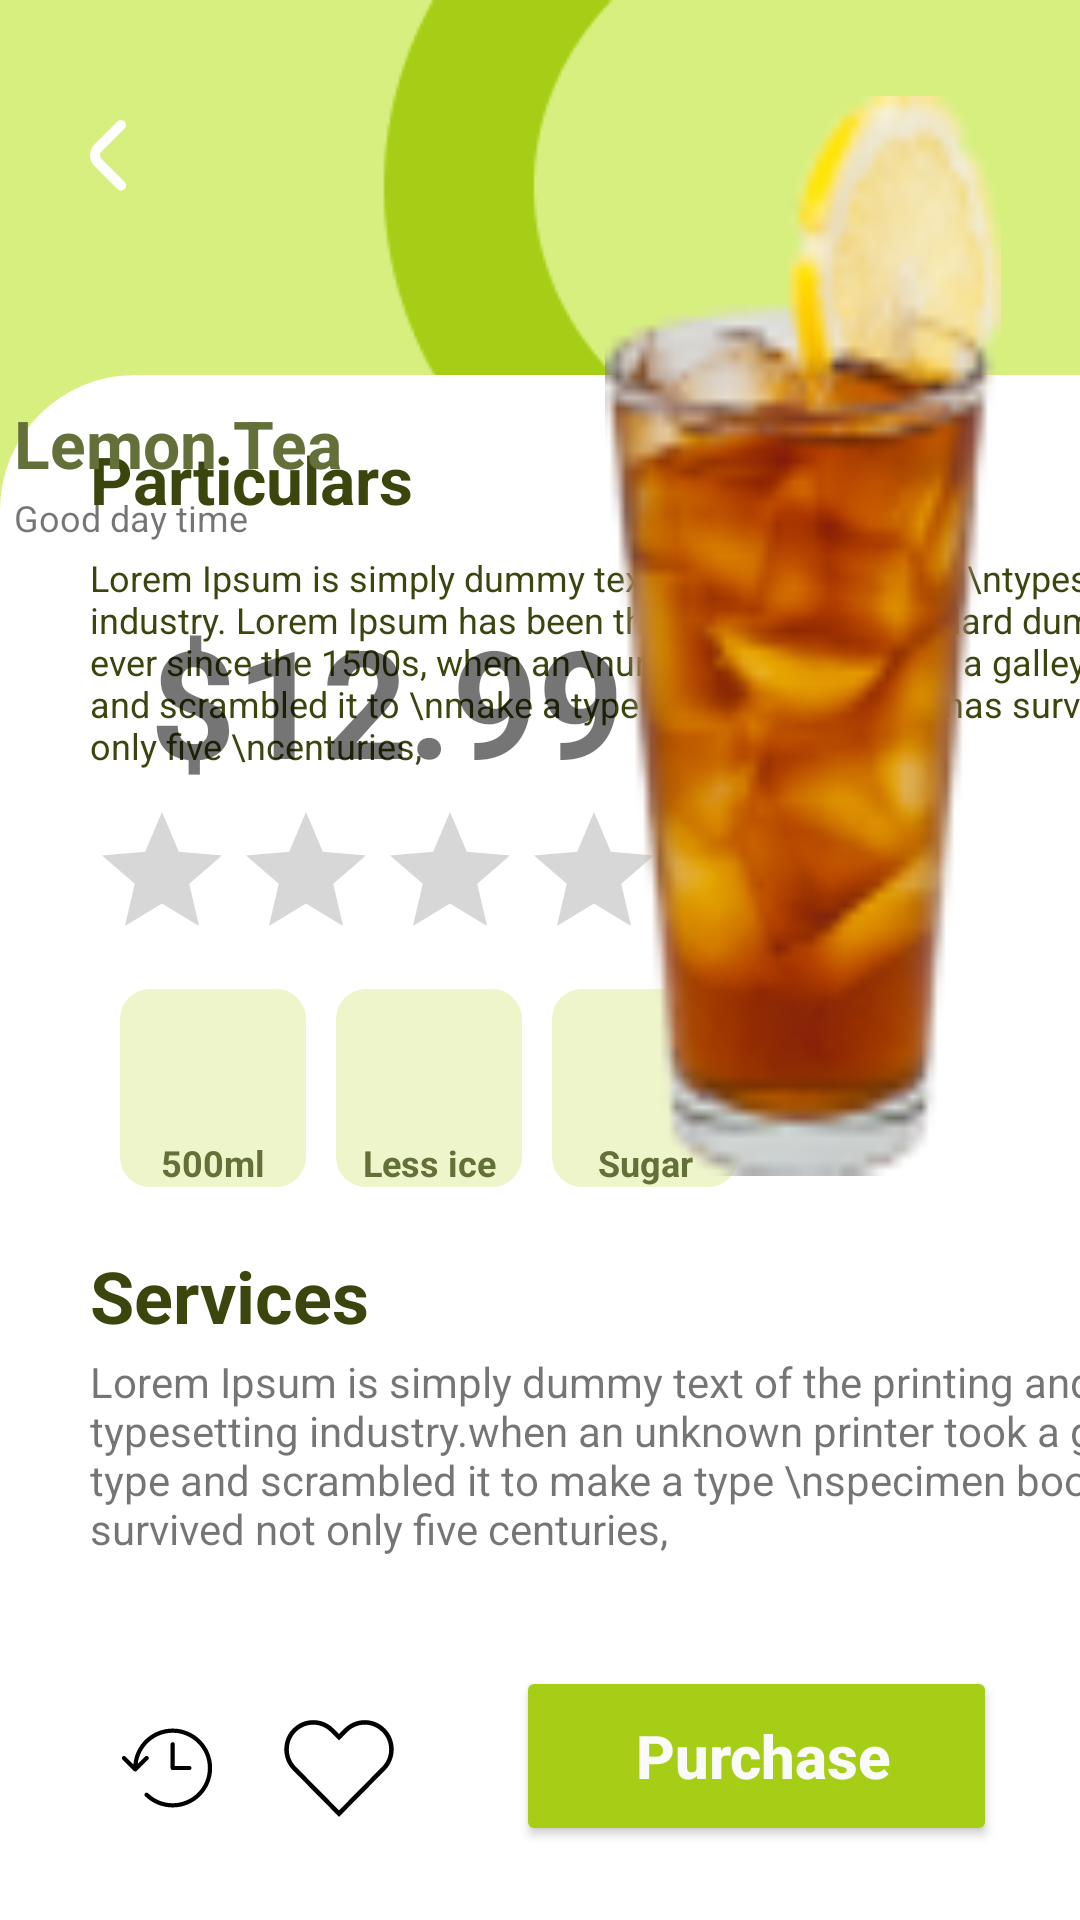

Where to tap for icons on this 1080*1920 app screen, as [x,y]:
detailsback: [108,155]
history: [167,1768]
like: [339,1768]
